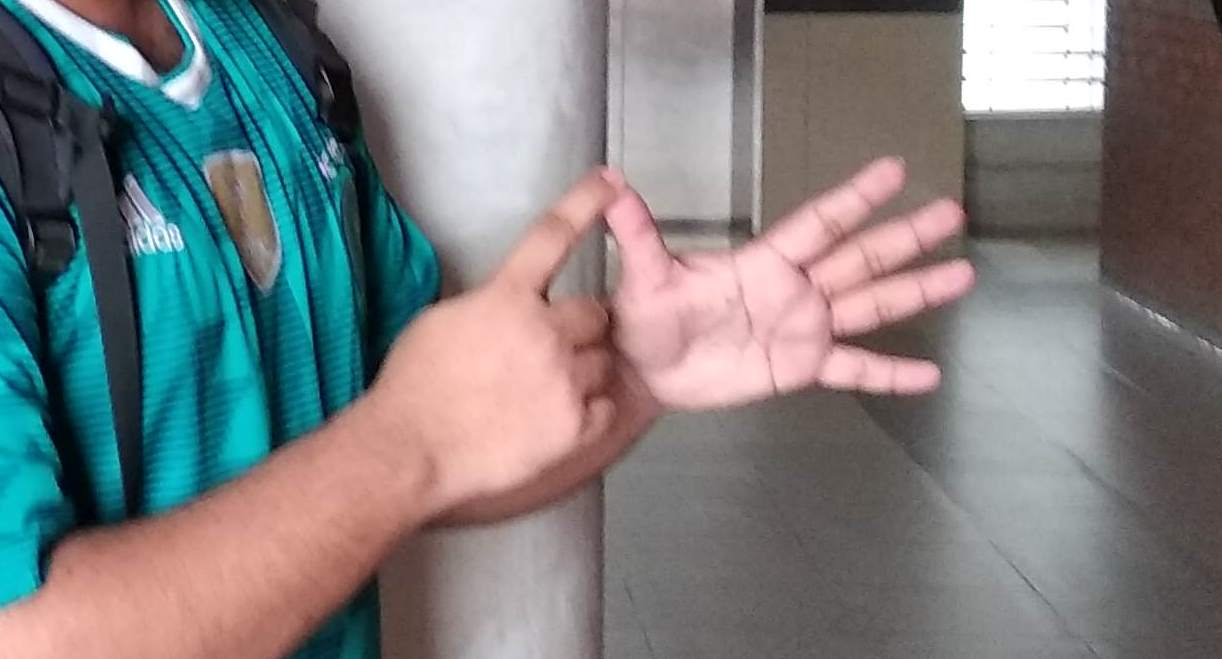a: (491, 168, 956, 447)
